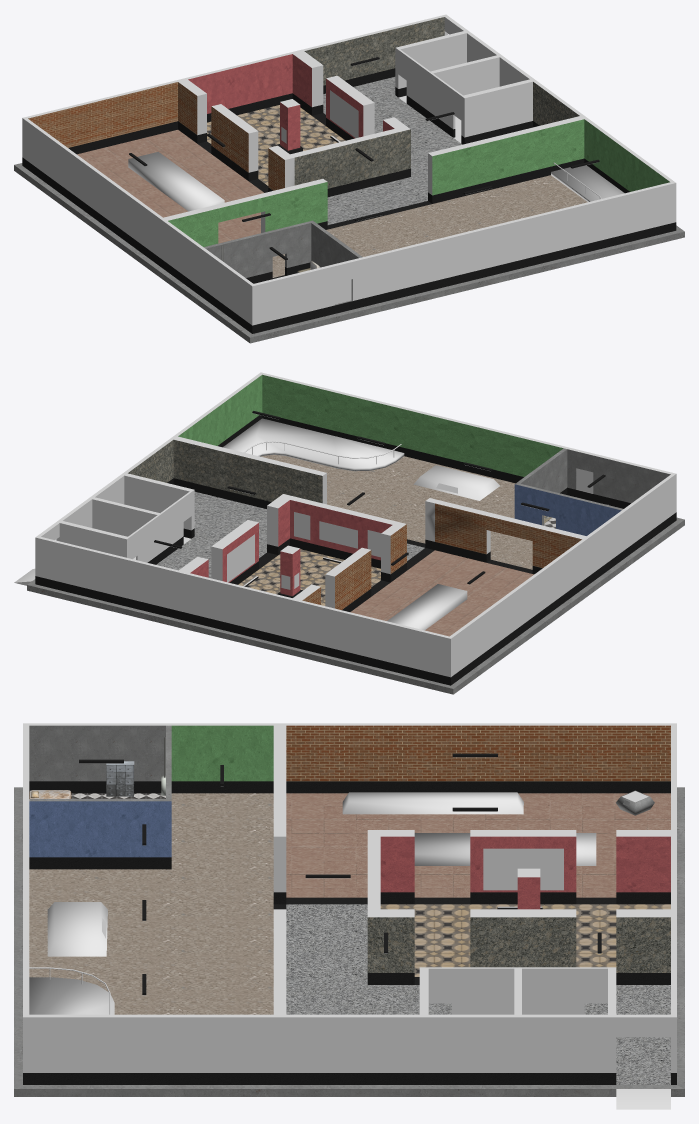
Rendered from Map16_9.fbx.
The picture shows the model from 3 angles, top to bottom: view 1: azimuth 30°, elevation 25°; view 2: azimuth 150°, elevation 25°; view 3: azimuth 270°, elevation 25°; orthographic projection. The views are drawn at different scales.
Parts seen in each view (by area): view 1: MainFrame, RelicStand2, AnimalStand2, Painting06; view 2: MainFrame, AnimalStand2, RelicStand2, AnimalStand1, Painting06, Painting02; view 3: MainFrame, RelicStand1, AnimalStand1, Painting07, AnimalStand2, RelicStand2, Storage, RelicSolo.
Part boxes in pixels (x1,y1,x2,y2): MainFrame: [14, 14, 684, 343]; RelicStand2: [128, 151, 224, 211]; AnimalStand2: [551, 165, 624, 202]; Painting06: [330, 90, 358, 137]; MainFrame: [14, 372, 684, 694]; AnimalStand2: [223, 418, 404, 471]; RelicStand2: [387, 584, 467, 630]; AnimalStand1: [413, 465, 499, 500]; Painting06: [227, 534, 254, 582]; Painting02: [319, 521, 357, 548]; MainFrame: [14, 723, 684, 1109]; RelicStand1: [342, 792, 523, 814]; AnimalStand1: [47, 902, 107, 956]; Painting07: [483, 848, 563, 890]; AnimalStand2: [29, 977, 114, 1014]; RelicStand2: [414, 833, 596, 865]; Storage: [106, 761, 134, 796]; RelicSolo: [616, 790, 654, 815].
Size of the model in its own units: 5356 by 605 by 4834.
